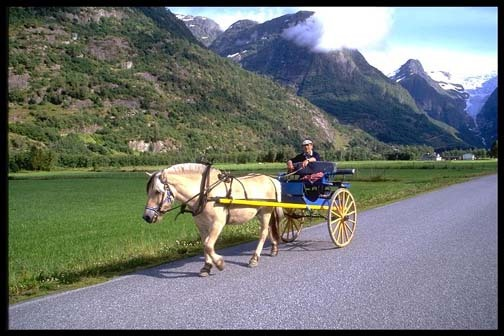horse: (142, 162, 288, 275)
